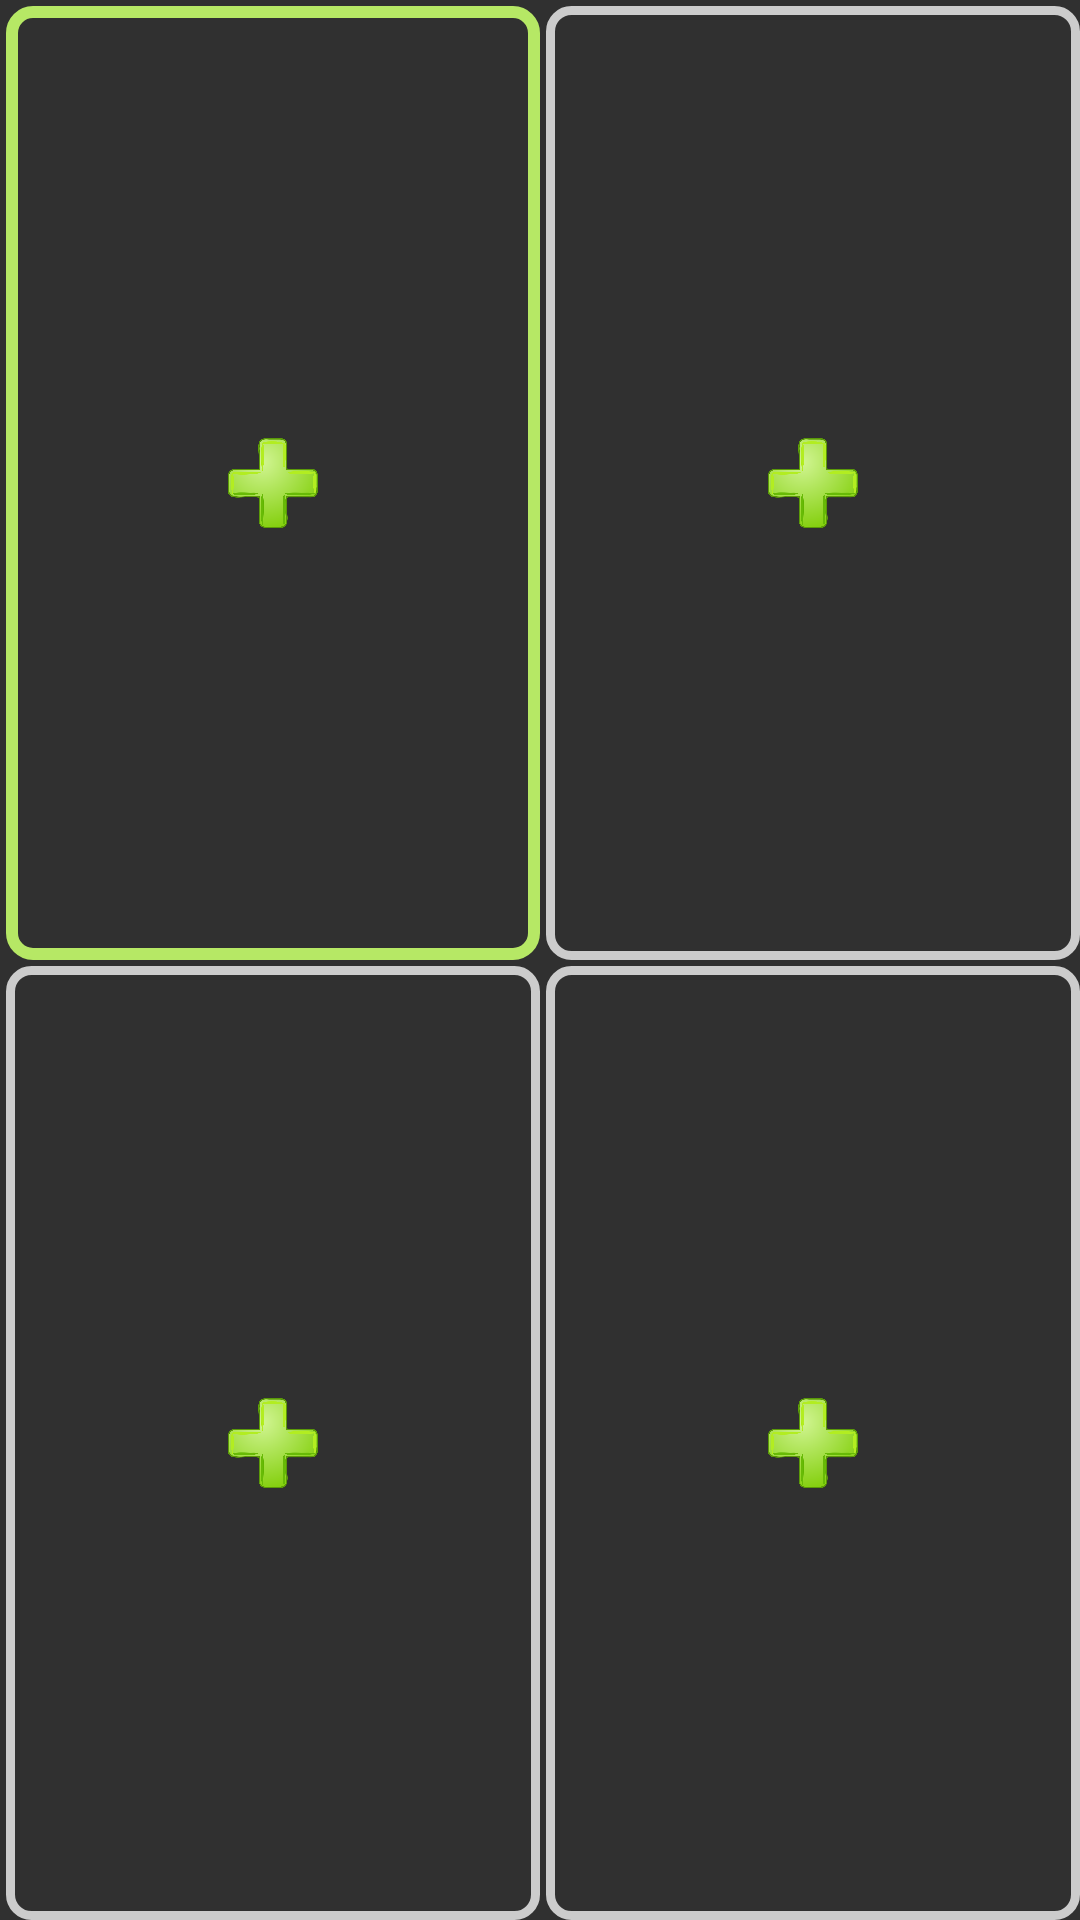

Where to tap for icons on this 1080 × 1920 app screen, as point (x, y):
plus: point (273, 483), point (813, 483), point (273, 1443), point (813, 1443)
